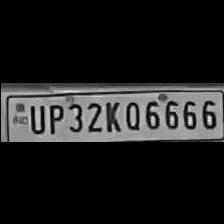2: (82, 97, 102, 132)
3: (65, 98, 83, 132)
6: (198, 95, 218, 129), (141, 96, 159, 130), (179, 96, 197, 130), (162, 96, 178, 130)
K: (100, 97, 119, 133)
P: (43, 100, 62, 134)
Q: (121, 97, 141, 130)
U: (26, 100, 44, 134)
